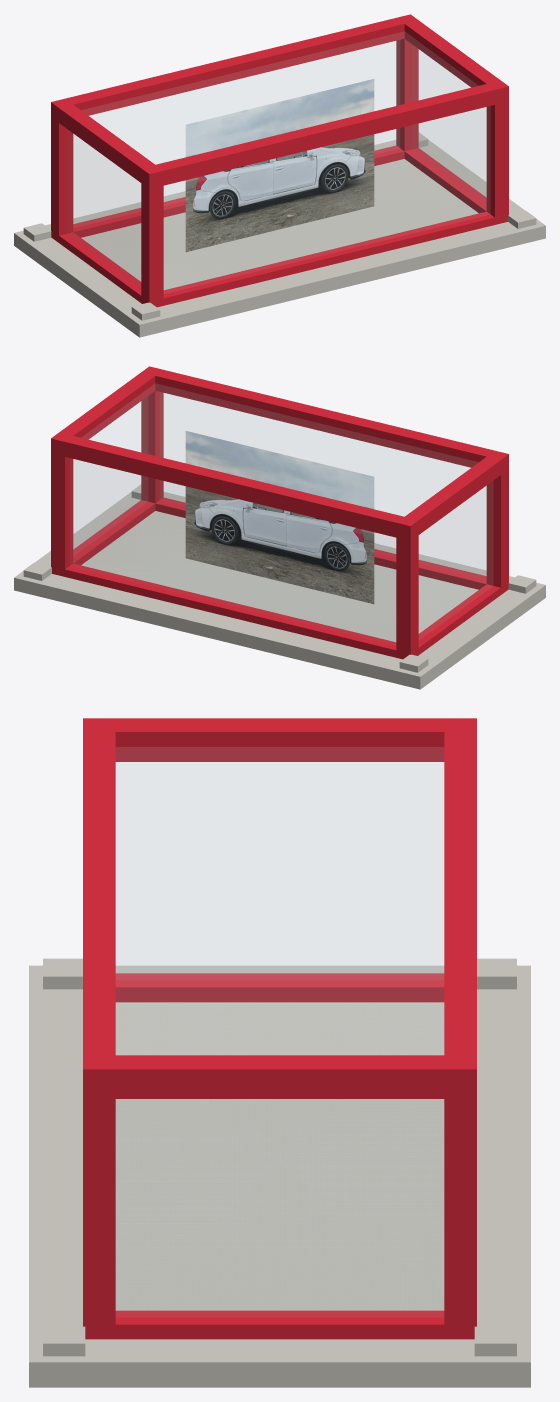
The model's file is toyota-prius-41-alpha-white.glb.
3 renders of one model, top to bottom at view 1: azimuth 30°, elevation 25°; view 2: azimuth 150°, elevation 25°; view 3: azimuth 270°, elevation 25°, orthographic. The views are drawn at different scales.
Bounding box in the file's own units: 0.2 × 0.0695 × 0.107.
Materials: 4 (1 with a texture image).
